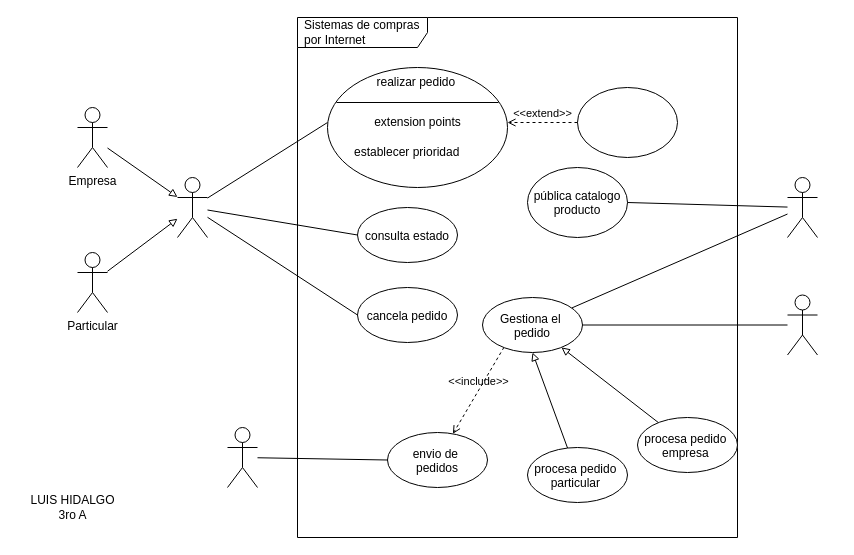
Image size: 854x555. Some labels were removed from this diagram. The centre of each missing label's shape, as x and y in pixels:
"Cliente" belongs at pixel 192 207.
"Empleado" belongs at pixel 802 207.
"Empresa sumistradora" belongs at pixel 802 324.
"Mensajería Externa" belongs at pixel 242 457.
"realizar pedido urgente" belongs at pixel 627 122.
